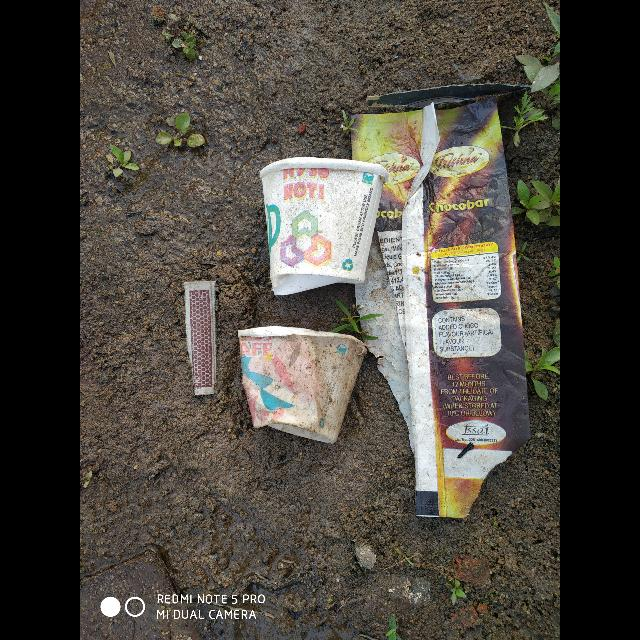trash: (346, 94, 530, 518), (259, 156, 389, 296), (238, 326, 368, 444), (184, 280, 216, 396)
